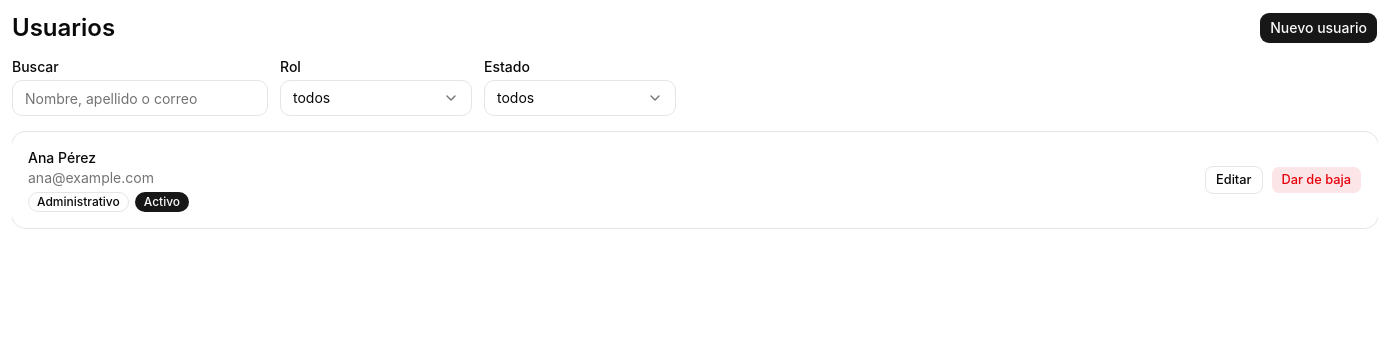
Test case: UsersPage › rejects a duplicate email before reaching the backend
Check: the text "Ana Pérez" is shown, box left=28, top=149, right=96, bottom=166
Click the button "Nuevo usuario" at (1319, 28), box left=1259, top=12, right=1378, bottom=44
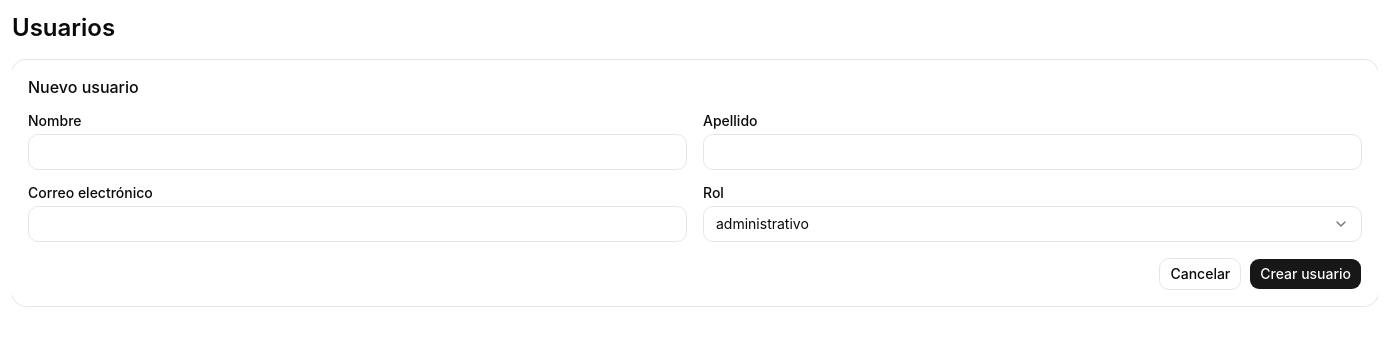
Type "Luis" into the field labelled "Nombre" at (358, 152), box left=28, top=134, right=687, bottom=170
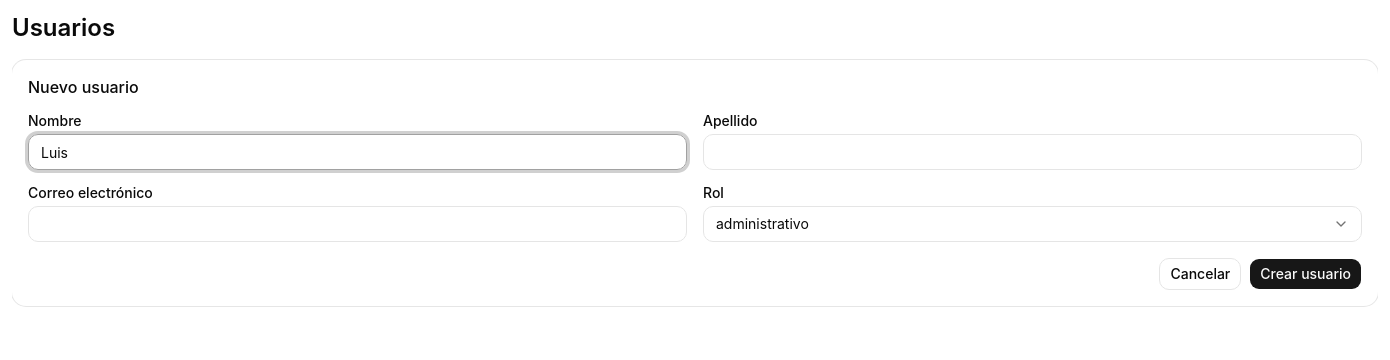
Type "Gómez" into the field labelled "Apellido" at (1032, 152), box left=703, top=134, right=1362, bottom=170
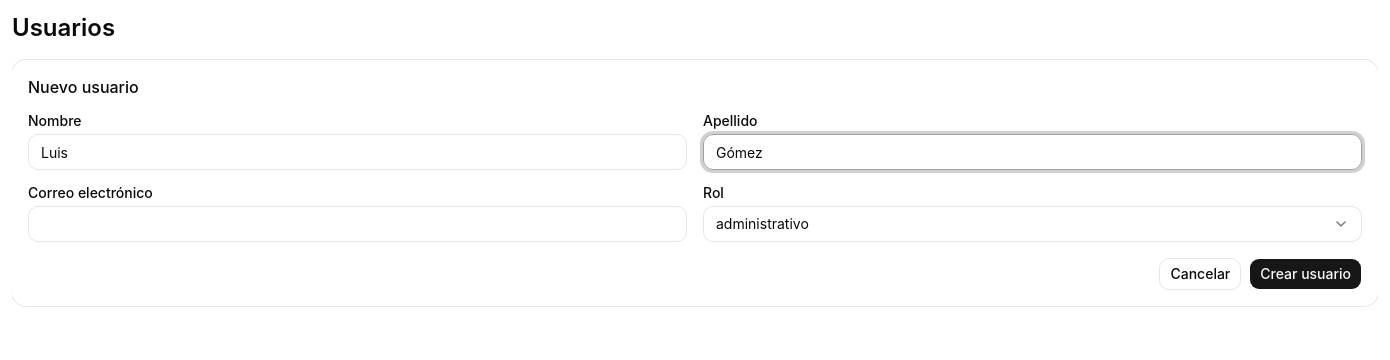
Type "ana@example.com" into the field labelled "Correo electrónico" at (358, 224), box left=28, top=206, right=687, bottom=242
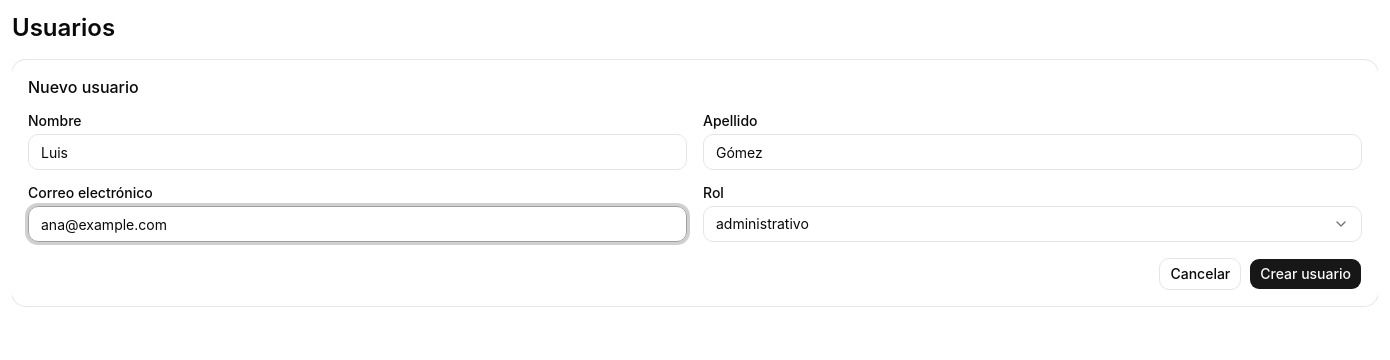
Click the button "Crear usuario" at (1306, 274), box left=1249, top=258, right=1362, bottom=290
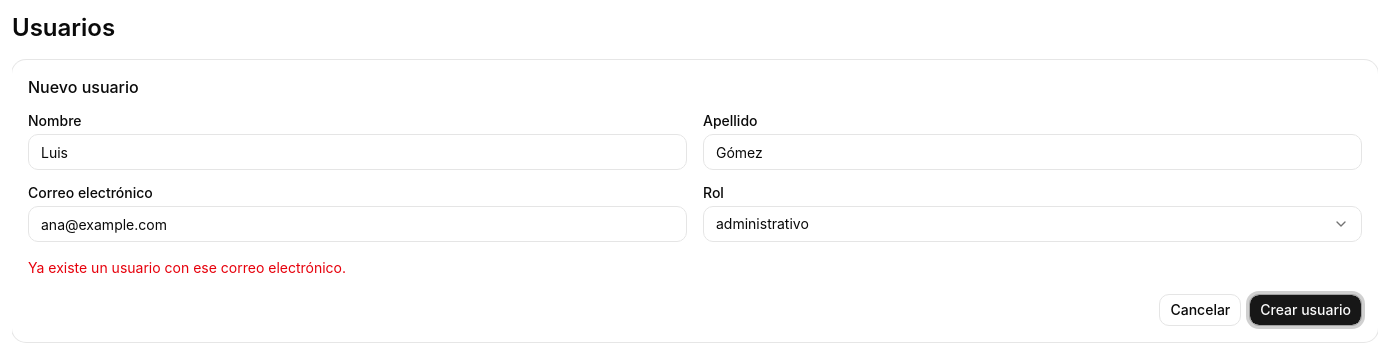
Check: the text "Ya existe un usuario con ese correo electrónico." is shown, box left=28, top=259, right=346, bottom=276
